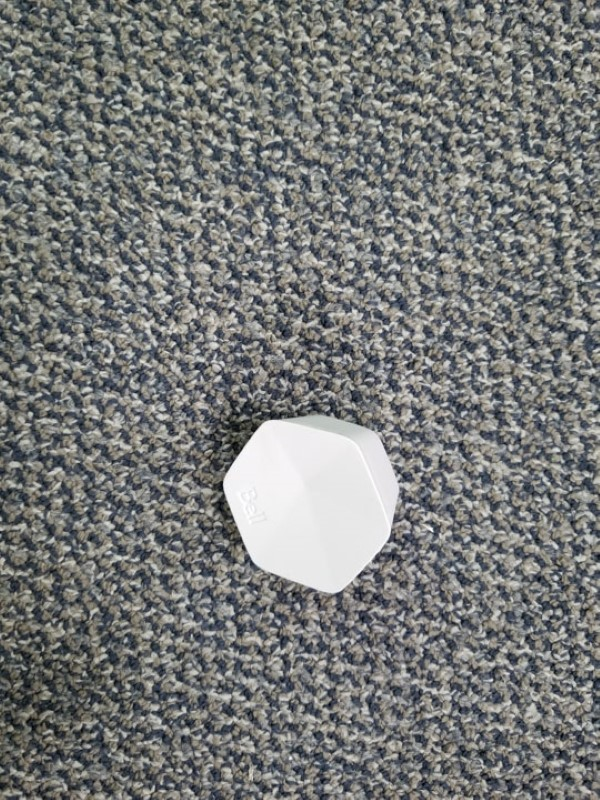pod: (212, 410, 409, 601)
